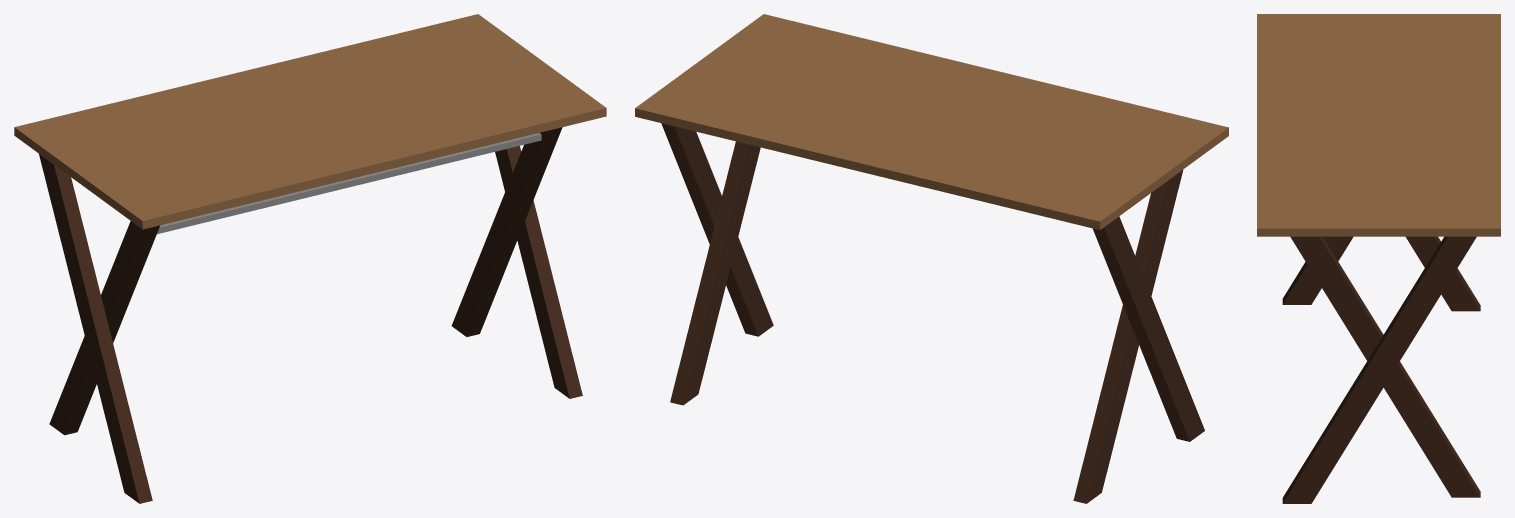
File: Desk.fbx
3 renders of one model, left to right at view 1: azimuth 30°, elevation 25°; view 2: azimuth 150°, elevation 25°; view 3: azimuth 270°, elevation 25°, orthographic. The views are drawn at different scales.
Visible parts, largest first — view 1: Desk; view 2: Desk; view 3: Desk.
Part boxes in pixels (left/top/right/bottom): Desk: left=14, top=14, right=606, bottom=503; Desk: left=635, top=14, right=1228, bottom=503; Desk: left=1257, top=14, right=1500, bottom=503.
Bounding box in the file's own units: 156 × 95.09 × 75.
